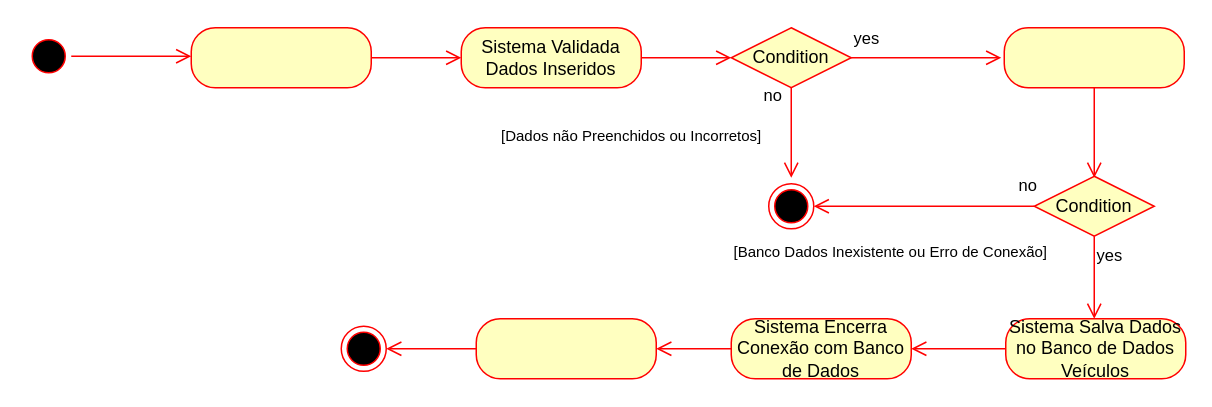
Image size: 1212x407. Some labels were removed from this diagram. Each missing label, with the centre of its shape:
Cadastro Realizado com Sucesso: the point at 565,348
Funcionário Solicita Cadastrar Veículo: the point at 280,57
Sistema Abre Conexão com Banco de Dados Veículos: the point at 1093,57
